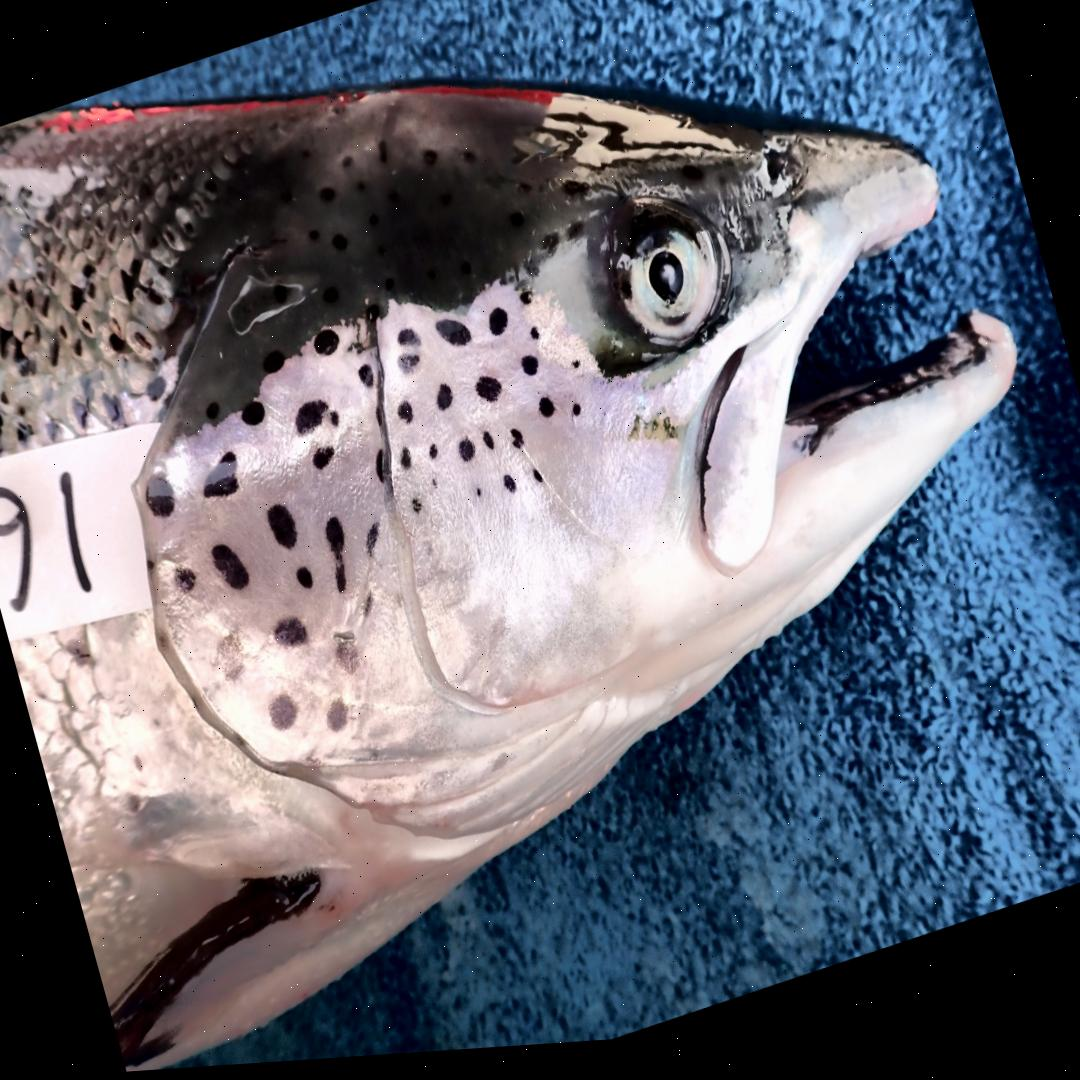spot: (211, 546, 248, 592), (203, 454, 238, 501), (325, 521, 346, 597), (294, 404, 338, 439), (214, 635, 244, 685), (266, 507, 297, 552), (144, 477, 174, 519), (332, 635, 360, 680), (294, 403, 326, 439), (272, 621, 307, 652), (268, 697, 297, 734), (434, 324, 471, 352), (313, 332, 339, 360), (326, 704, 348, 736), (475, 382, 501, 409), (413, 543, 438, 568), (488, 314, 508, 343), (241, 404, 264, 429), (311, 450, 333, 475), (364, 526, 379, 562), (397, 358, 420, 380), (262, 354, 284, 377), (174, 570, 195, 593), (435, 390, 452, 417), (397, 333, 419, 353), (294, 570, 312, 594), (357, 369, 374, 393), (457, 445, 474, 467), (538, 403, 554, 426), (396, 406, 412, 429), (520, 362, 537, 383), (509, 434, 523, 457), (361, 598, 373, 623), (374, 455, 383, 485), (374, 407, 384, 434), (399, 453, 411, 474), (502, 481, 515, 500), (482, 437, 493, 456), (519, 297, 531, 312), (410, 504, 421, 519), (428, 450, 438, 466), (531, 475, 541, 489), (530, 333, 538, 348), (571, 411, 581, 423), (571, 368, 580, 377), (474, 494, 481, 505), (432, 484, 436, 493)
